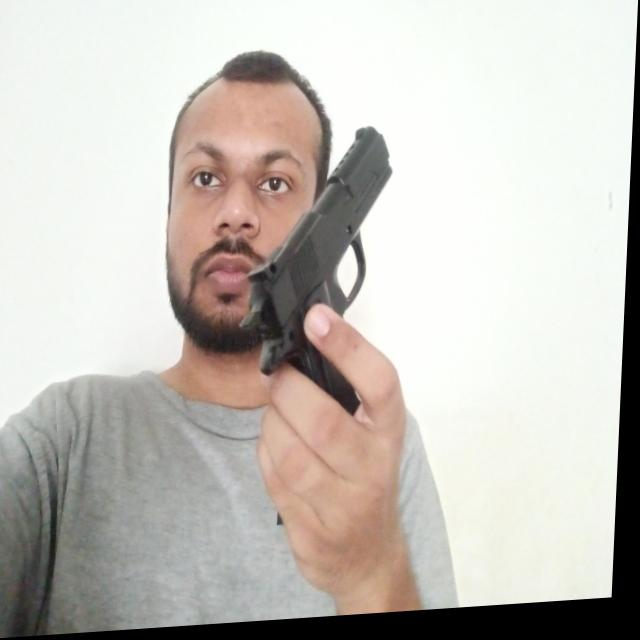handgun: (238, 124, 398, 428)
